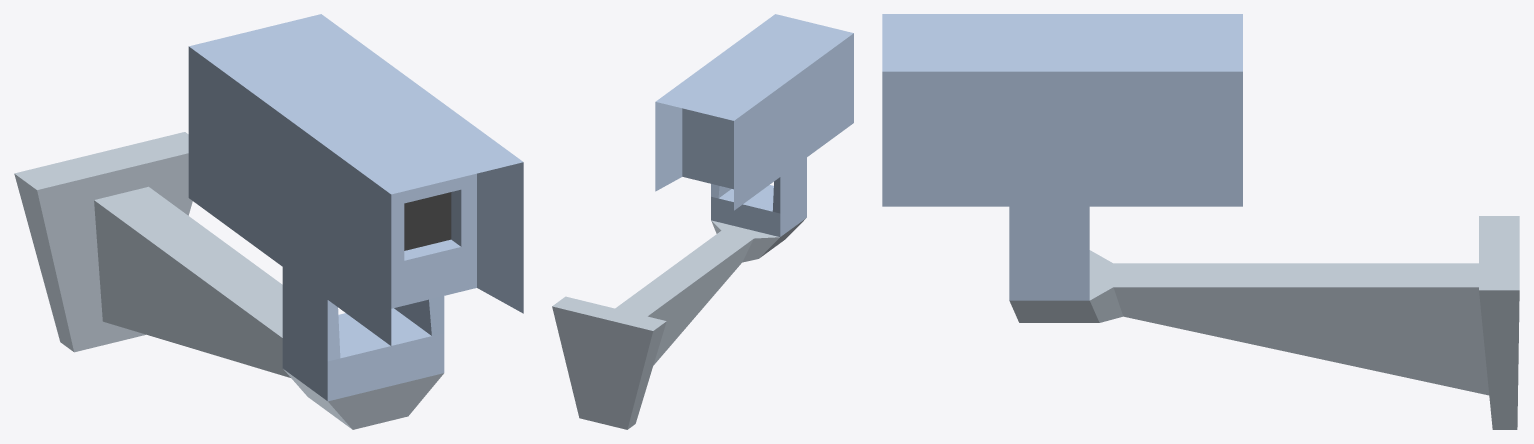
Rendered from wall-camera.fbx.
3 renders of one model, left to right at view 1: azimuth 30°, elevation 25°; view 2: azimuth 150°, elevation 25°; view 3: azimuth 270°, elevation 25°, orthographic. The views are drawn at different scales.
Parts seen in each view (by area): view 1: Camera, Wall Mount; view 2: Camera, Wall Mount; view 3: Camera, Wall Mount.
Boxes of the visible parts, x1,y1,x2,y2 form: Camera: (188,14,523,401); Wall Mount: (14,132,443,429); Camera: (655,14,853,236); Wall Mount: (552,218,805,429); Camera: (882,14,1242,300); Wall Mount: (1009,216,1519,429).
Bounding box in the file's own units: 45.9 × 107 × 167.
